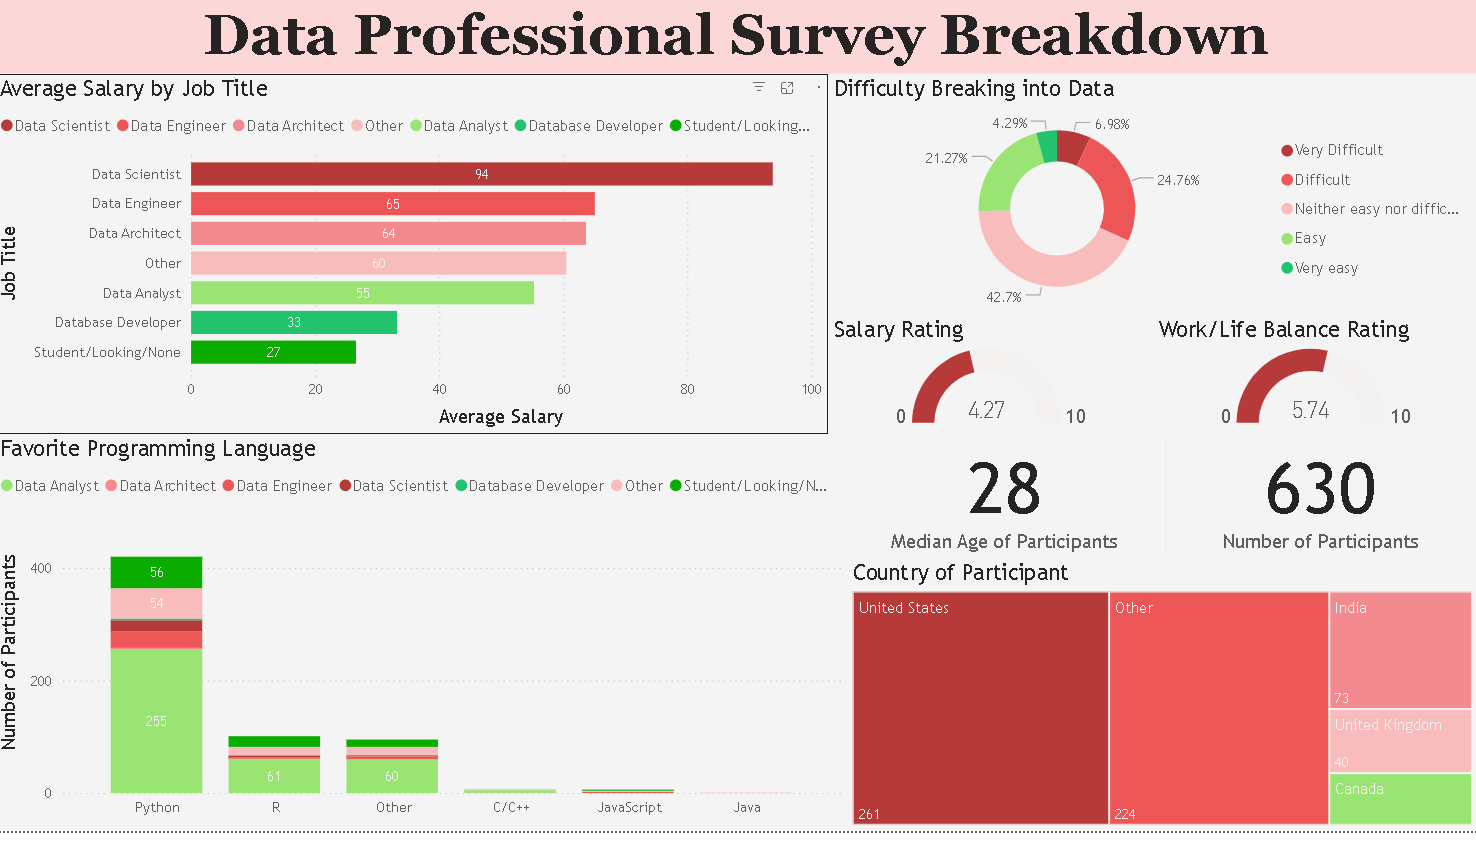

The page's visual inventory and layout, read from the dashboard file:
{"tool":"powerbi","page":{"name":"Page 1","canvas":[1280,720],"ordinal":0},"visuals":[{"type":"textbox","box":[0,0,1280,66.7],"z":0},{"type":"card","fields":{"Values":["CountNonNull(Data Professional Survey.Unique ID)"]},"box":[1008,378,272,107],"z":1000},{"type":"card","fields":{"Values":["Median(Data Professional Survey.Q10 - Current Age)"]},"box":[736,378,272,107],"z":2000},{"type":"barChart","title":"Average Salary by Job Title","fields":{"Category":["Data Professional Survey.Q1 - Which Title Best Fits your Current Role?"],"Y":["Avg(Data Professional Survey.Average Salary)"],"Series":["Data Professional Survey.Q1 - Which Title Best Fits your Current Role?"]},"box":[0,67,719,311],"z":3000},{"type":"columnChart","title":"Favorite Programming Language","fields":{"Category":["Data Professional Survey.Q5 - Favorite Programming Language"],"Y":["CountNonNull(Data Professional Survey.Q5 - Favorite Programming Language)"],"Series":["Data Professional Survey.Q1 - Which Title Best Fits your Current Role?"]},"box":[0,378,736,342],"z":4000},{"type":"treemap","title":"Country of Participant","fields":{"Group":["Data Professional Survey.Q11 - Which Country do you live in?"],"Values":["CountNonNull(Data Professional Survey.Q11 - Which Country do you live in?)"]},"box":[736,485,544,235],"z":5000},{"type":"gauge","title":"Salary Rating","fields":{"Y":["Avg(Data Professional Survey.Q6 - How Happy are you in your Current Position with the following? (Salary))"],"MinValue":["Min(Data Professional Survey.Q6 - How Happy are you in your Current Position with the following? (Salary))"],"MaxValue":["Max(Data Professional Survey.Q6 - How Happy are you in your Current Position with the following? (Salary))"]},"box":[719,275,281,103],"z":6000},{"type":"gauge","title":"Work/Life Balance Rating","fields":{"Y":["Avg(Data Professional Survey.Q6 - How Happy are you in your Current Position with the following? (Work/Life Balance))"],"MinValue":["Min(Data Professional Survey.Q6 - How Happy are you in your Current Position with the following? (Work/Life Balance))"],"MaxValue":["Max(Data Professional Survey.Q6 - How Happy are you in your Current Position with the following? (Work/Life Balance))1"]},"box":[1000,275,280,103],"z":7000},{"type":"donutChart","title":"Difficulty Breaking into Data","fields":{"Category":["Break into Data Sort.Break into Data Difficulty"],"Series":["Data Professional Survey.Q7 - How difficult was it for you to break into Data?"],"Y":["CountNonNull(Data Professional Survey.Q7 - How difficult was it for you to break into Data?)"]},"box":[719,67,561,208],"z":8000}]}

Visuals, with their boxes in screenshot pixels (x1, y1, x2, y2), scaled from the page's 1280x720 canvas onto the 1476x843 screenshot:
textbox: [left=0, top=0, right=1475, bottom=78]
card - CountNonNull(Data Professional Survey.Unique ID): [left=1162, top=443, right=1475, bottom=568]
card - Median(Data Professional Survey.Q10 - Current Age): [left=849, top=443, right=1162, bottom=568]
"Average Salary by Job Title" barChart: [left=0, top=78, right=829, bottom=443]
"Favorite Programming Language" columnChart: [left=0, top=443, right=849, bottom=842]
"Country of Participant" treemap: [left=849, top=568, right=1475, bottom=842]
"Salary Rating" gauge: [left=829, top=322, right=1153, bottom=443]
"Work/Life Balance Rating" gauge: [left=1153, top=322, right=1475, bottom=443]
"Difficulty Breaking into Data" donutChart: [left=829, top=78, right=1475, bottom=322]
